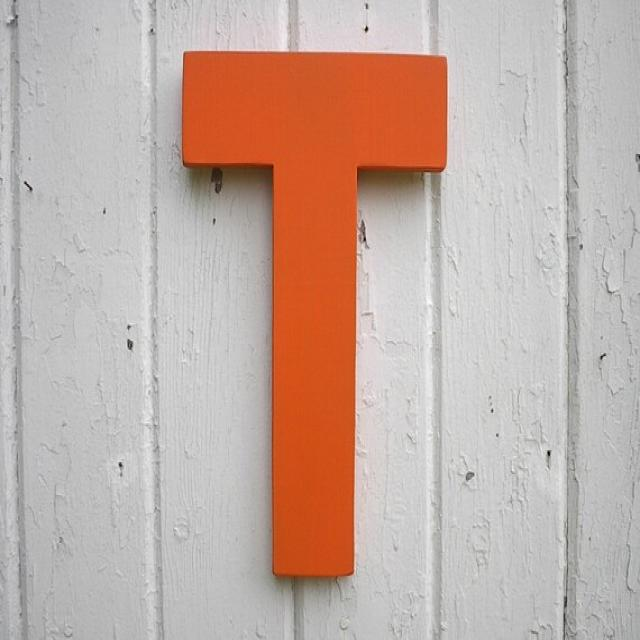T: (156, 17, 459, 600)
